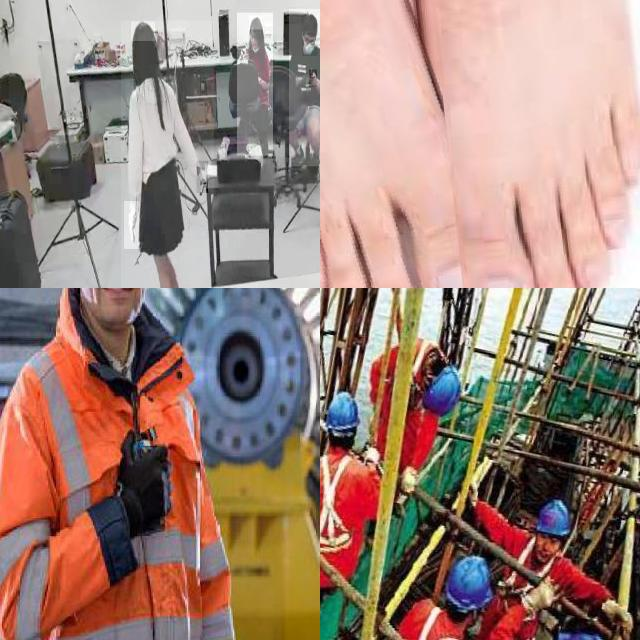Barefoots: (404, 0, 640, 288), (320, 0, 489, 288)
Harness: (320, 455, 353, 552), (420, 608, 443, 640)
face_mask: (302, 33, 318, 56)
face_nomask: (80, 288, 145, 320), (250, 32, 258, 50)
hand_glove: (88, 432, 170, 583), (124, 201, 140, 250), (196, 161, 208, 194)
hand_noglove: (309, 70, 317, 88)
head_nohelmet: (131, 21, 155, 42), (302, 13, 318, 32), (249, 15, 263, 30)
person: (121, 20, 214, 288), (237, 12, 273, 156), (289, 9, 320, 167)
